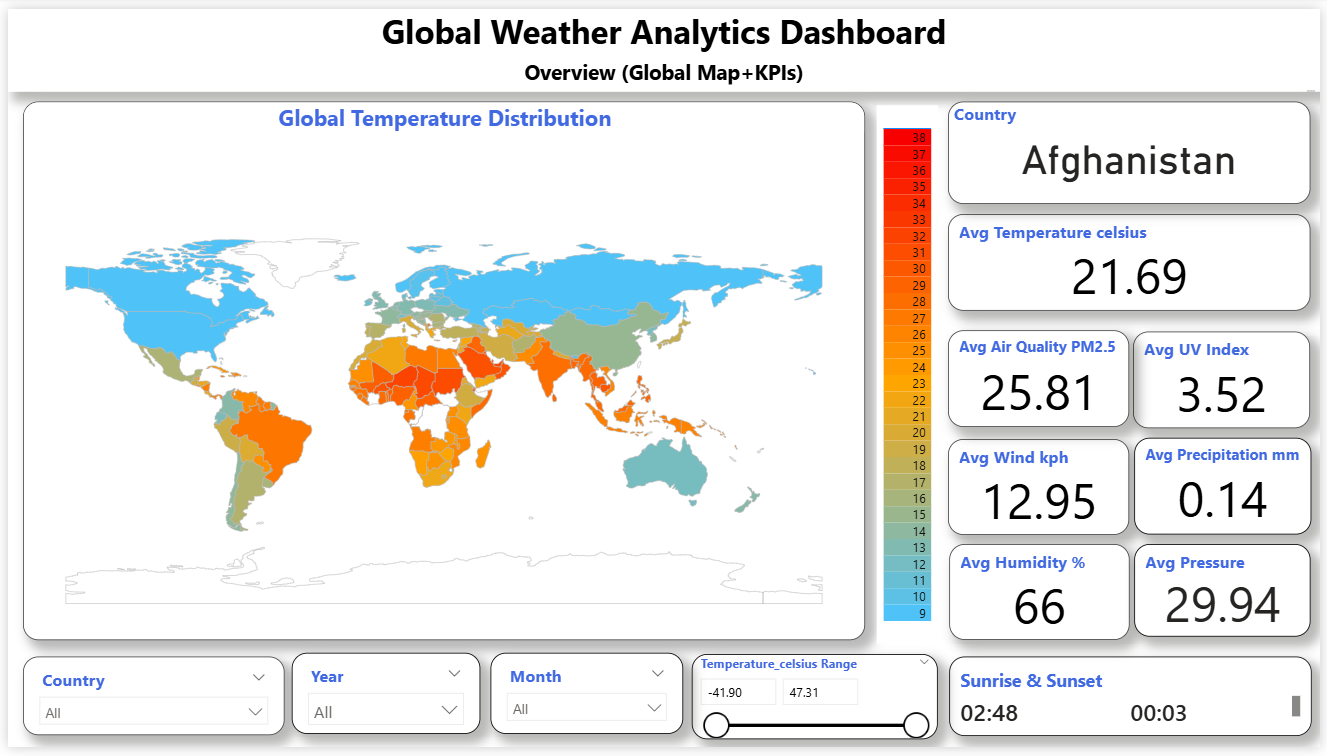

The page's visual inventory and layout, read from the dashboard file:
{"tool":"powerbi","page":{"name":"Overview","canvas":[1280,720],"ordinal":0},"visuals":[{"type":"textbox","title":"Global Weather Analytics Dashboard","box":[0,0,1280,80.8],"z":0},{"type":"shapeMap","title":"Global Temperature Distribution","fields":{"Category":["in.country"],"Value":["Avg(in.temperature_celsius)"]},"box":[13,93.5,822.1,526],"z":1000},{"type":"slicer","fields":{"Values":["in.country"]},"box":[13.3,630.7,258.7,77.3],"z":2000},{"type":"card","title":"Avg Temperature","fields":{"Values":["Avg(in.temperature_celsius)"]},"box":[925.4,418.3,163.4,94.4],"z":3000},{"type":"card","title":"Avg Wind kph","fields":{"Values":["Avg(in.wind_kph)"]},"box":[925.4,204.2,163.4,93],"z":4000},{"type":"card","title":"Avg UV Index","fields":{"Values":["Avg(in.uv_index)"]},"box":[1097.2,314.1,167.6,94.4],"z":5000},{"type":"card","title":"Avg Humidity %","fields":{"Values":["Avg(in.humidity)"]},"box":[1094.4,204.2,170.4,93],"z":6000},{"type":"card","title":"Avg Air Quality ","fields":{"Values":["Avg(in.air_quality_PM2.5)"]},"box":[925.4,314.1,163.4,94.4],"z":7000},{"type":"card","title":"Country ","fields":{"Values":["Min(in.country)"]},"box":[925,90.3,345.8,100],"z":8000},{"type":"slicer","title":"Temperature_celsius Range","fields":{"Values":["in.temperature_celsius"]},"box":[550,630.2,357,89.5],"z":9000},{"type":"slicer","title":"Weather Condition","fields":{"Values":["in.condition_text"]},"box":[280,629.3,257.3,78.7],"z":10000},{"type":"card","title":"Avg Precipitation ","fields":{"Values":["Avg(in.precip_mm)"]},"box":[1097.2,418.3,170.4,94.4],"z":11000},{"type":"card","fields":{"Values":["Min(in.sunrise)"]},"box":[925.4,531,163.4,88.7],"z":12000},{"type":"card","fields":{"Values":["Min(in.sunset)"]},"box":[1097.2,528.2,171.8,91.5],"z":13000},{"type":"multiRowCard","fields":{"Values":["in.latitude","in.longitude"]},"box":[920,629.3,349.3,77.3],"z":14000},{"type":"tableEx","fields":{"Values":["GradientScale.Value"]},"box":[848.1,93.5,59.7,526],"z":15000}]}

Visuals, with their boxes in screenshot pixels (x1, y1, x2, y2), scaled from the page's 1280x720 canvas onto the 1327x756 screenshot:
"Global Weather Analytics Dashboard" textbox: (0,0,1326,85)
"Global Temperature Distribution" shapeMap: (13,98,866,650)
slicer - in.country: (14,662,282,743)
"Avg Temperature" card: (959,439,1129,538)
"Avg Wind kph" card: (959,214,1129,312)
"Avg UV Index" card: (1137,330,1311,429)
"Avg Humidity %" card: (1135,214,1311,312)
"Avg Air Quality " card: (959,330,1129,429)
"Country " card: (959,95,1317,200)
"Temperature_celsius Range" slicer: (570,662,940,755)
"Weather Condition" slicer: (290,661,557,743)
"Avg Precipitation " card: (1137,439,1314,538)
card - Min(in.sunrise): (959,558,1129,651)
card - Min(in.sunset): (1137,555,1316,651)
multiRowCard - in.latitude x in.longitude: (954,661,1316,742)
tableEx - GradientScale.Value: (879,98,941,650)
